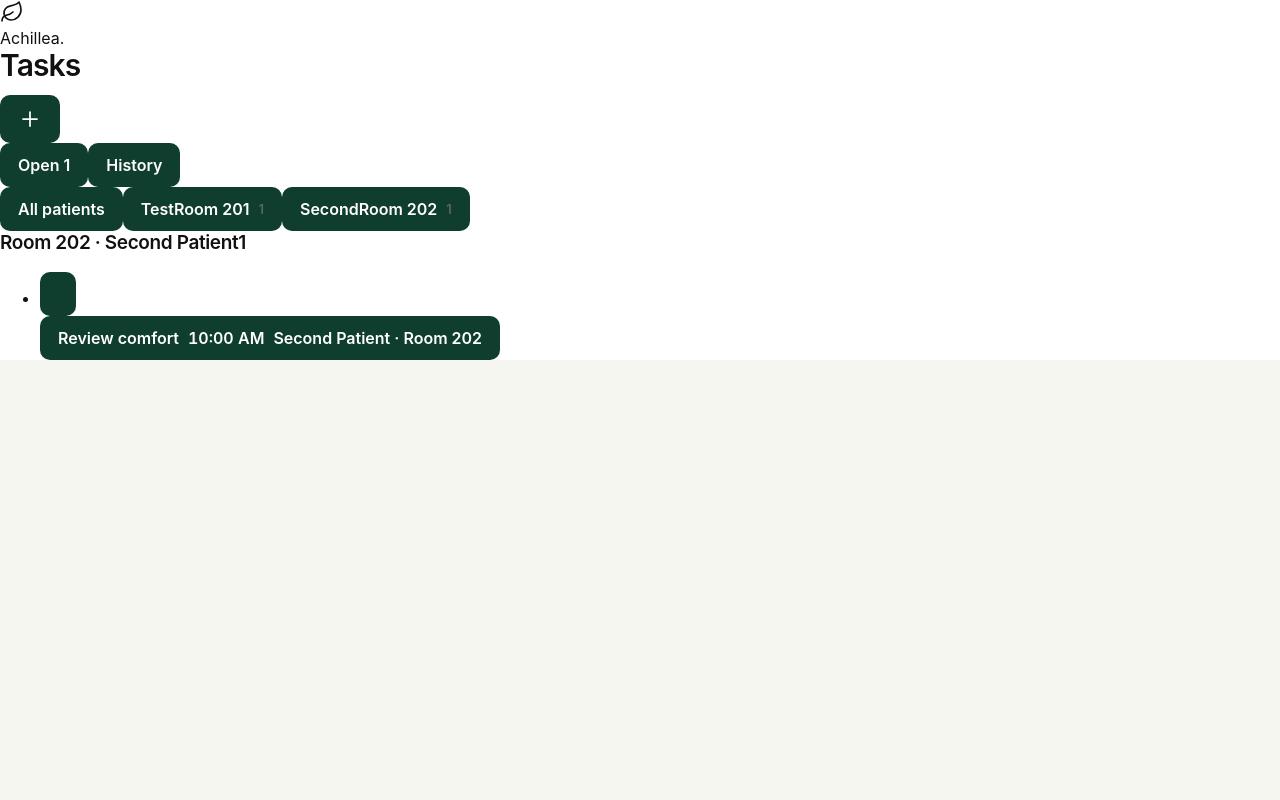
Test: keeps the filtered patient selected when scheduling and offers explicit relative times
The width and height of the screenshot is (1280, 800).
Later steps or results of the test are not shown.
Step 1. Click the button named "Schedule a review" → (30, 119), box left=0, top=95, right=60, bottom=143
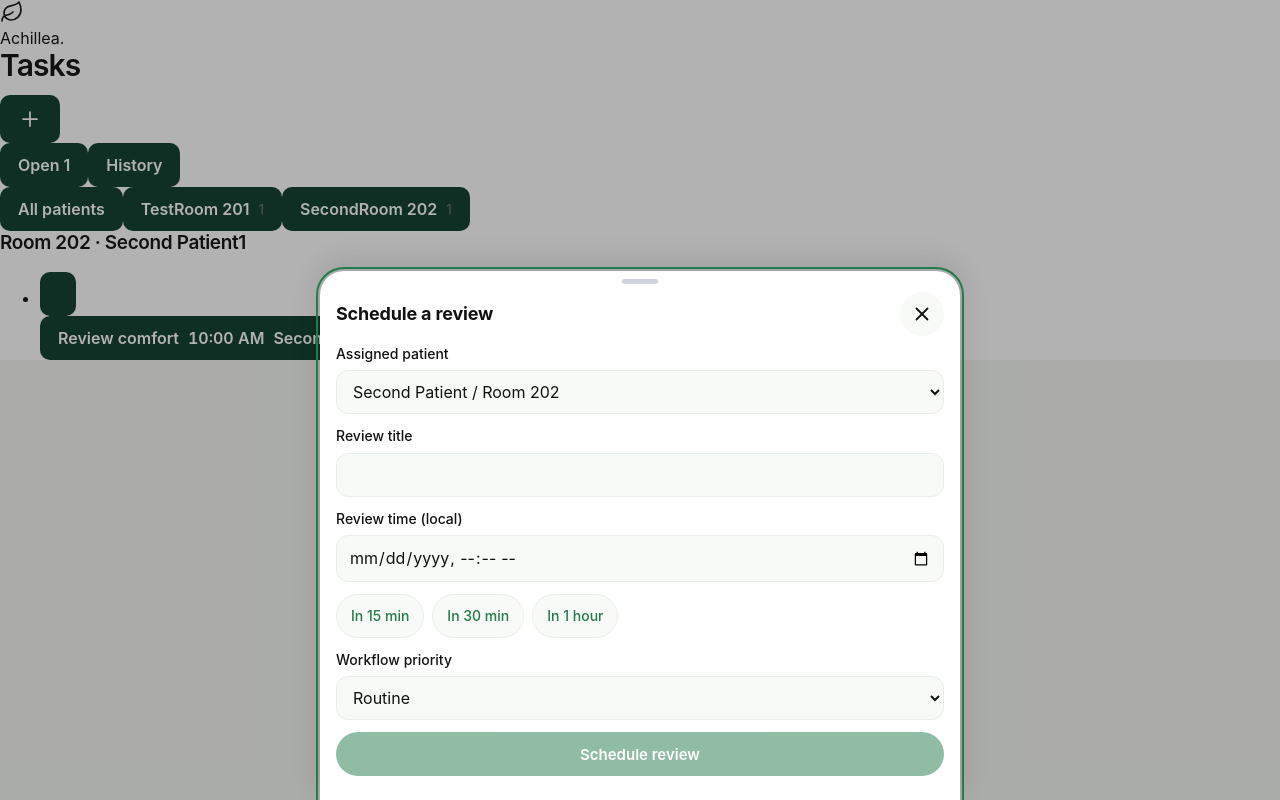
Check: the dropdown labelled "Assigned patient" shows "Second Patient / Room 202", box left=336, top=370, right=944, bottom=414
